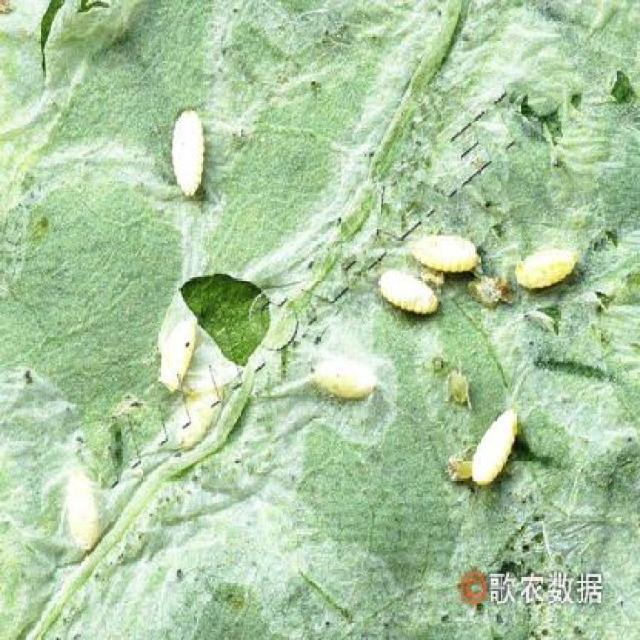whorl-maggot: (468, 398, 526, 492), (164, 102, 216, 198), (308, 346, 383, 411), (375, 256, 440, 327), (504, 240, 587, 294), (411, 223, 478, 279), (155, 313, 199, 395), (59, 468, 101, 549)
